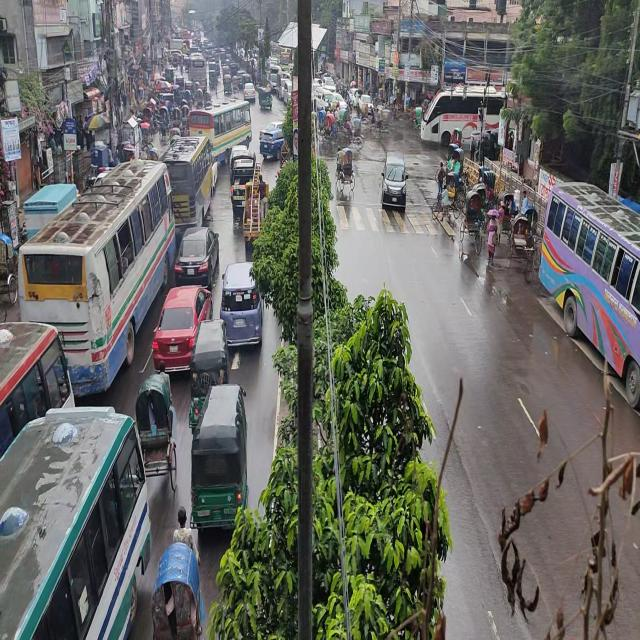black: (173, 229, 216, 282)
red: (156, 284, 198, 369)
